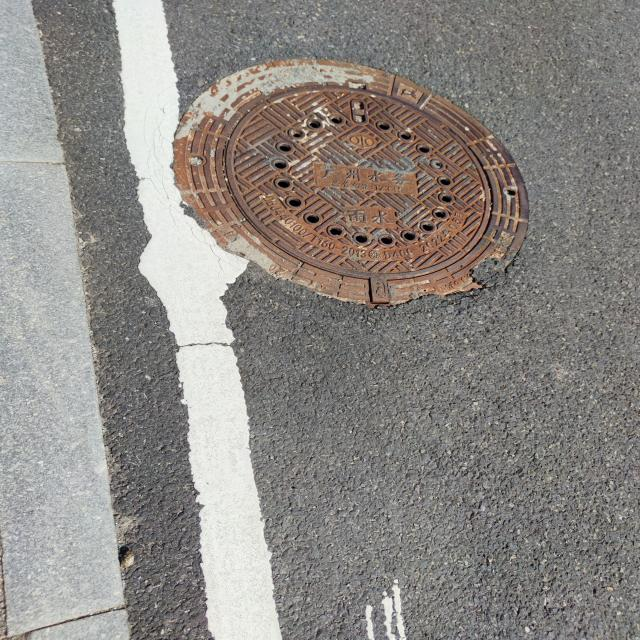Good: (163, 55, 541, 312)
